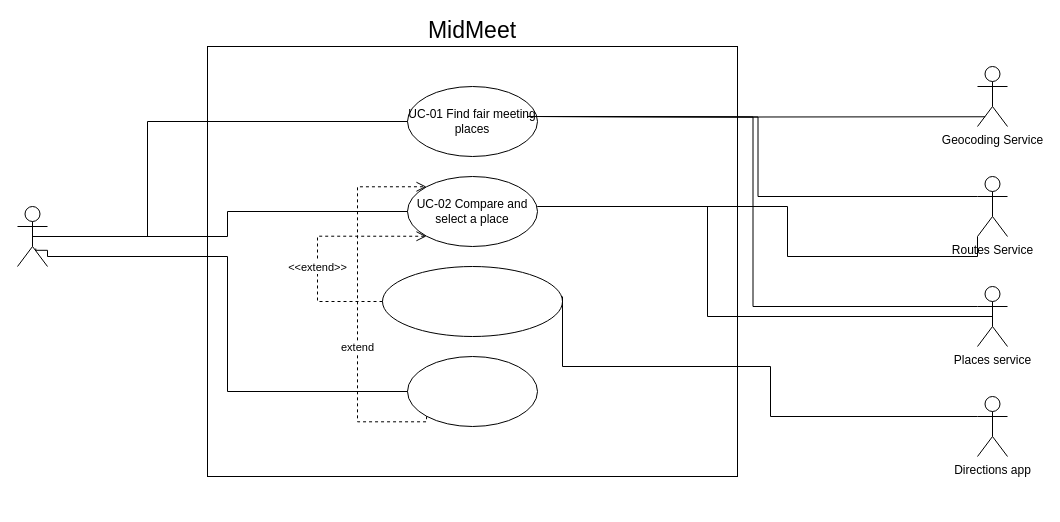
Image size: 1060x522. Some labels were removed from this diagram. Here are the shapes that lost their labels. From the top down, the centre of each, then its label:
At (32,236): "User".
At (472,301): "UC-03 Get directions to the chosen place".
At (472,391): "UC-04 Share the chosen place".
